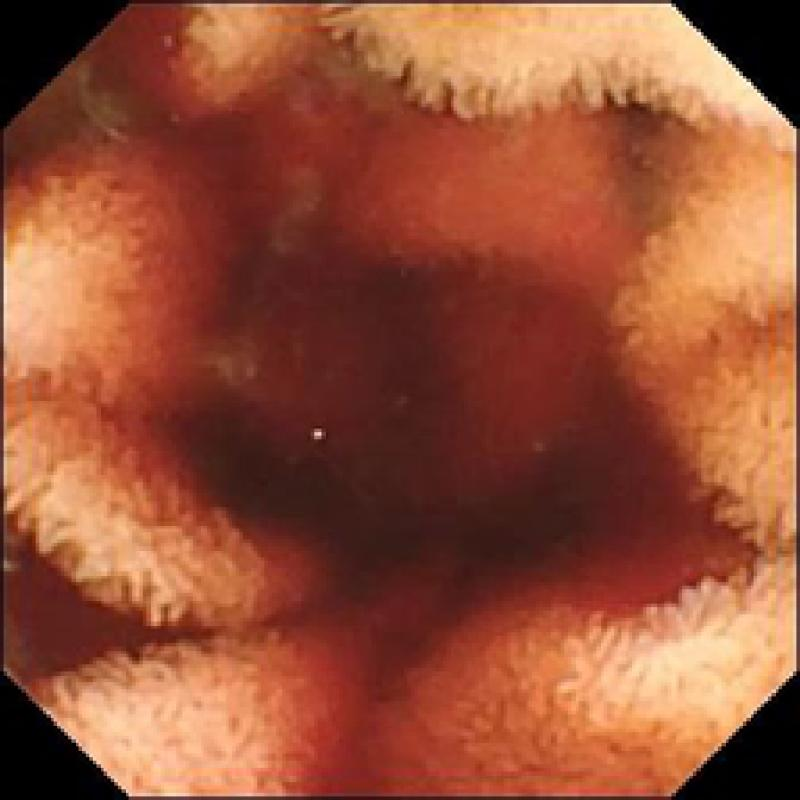bleeding: (0, 3, 739, 785)
